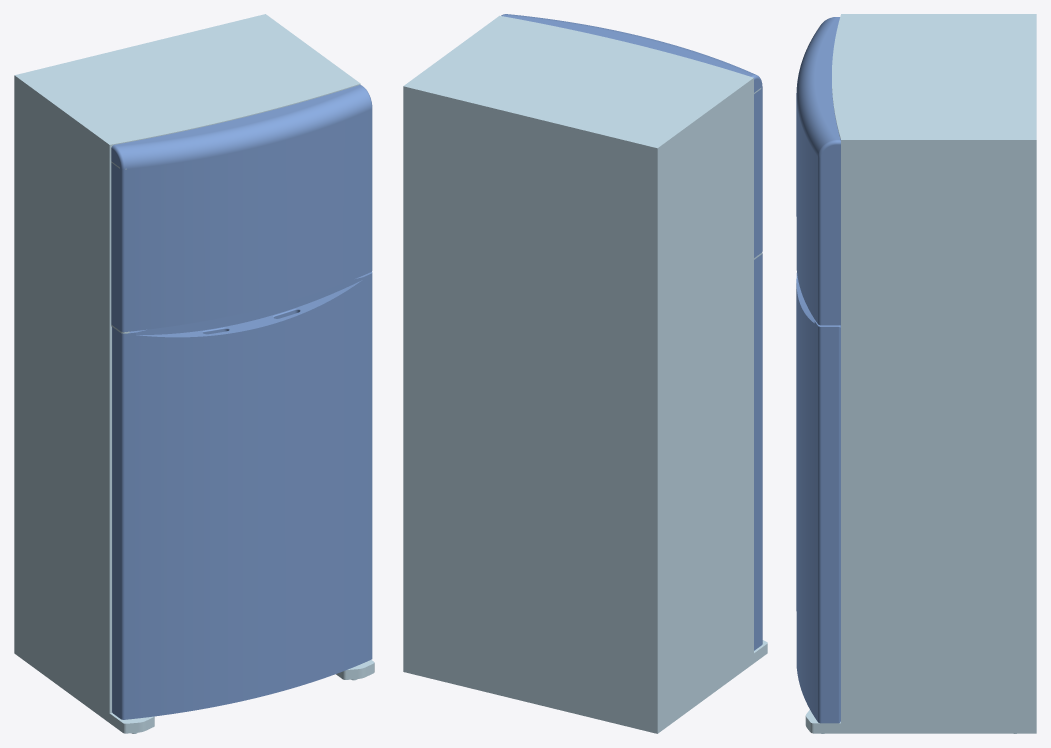
Rendered from fridge.glb.
The picture shows the model from 3 angles, left to right: view 1: azimuth 30°, elevation 25°; view 2: azimuth 150°, elevation 25°; view 3: azimuth 270°, elevation 25°; orthographic projection. The views are drawn at different scales.
Visible parts, largest first — view 1: door_fridge_panel, fridge_body, door_freezer; view 2: fridge_body, door_freezer, door_fridge_panel; view 3: fridge_body, door_fridge_panel, door_freezer.
Part boxes in pixels (x1,y1,x2,y2): door_fridge_panel: (112,272,372,719); fridge_body: (14,14,374,733); door_freezer: (111,85,372,332); fridge_body: (403,15,767,733); door_freezer: (501,14,762,257); door_fridge_panel: (754,253,762,650); fridge_body: (805,14,1036,733); door_fridge_panel: (796,273,840,723); door_freezer: (796,17,840,325).
Size of the model in its own units: 0.805 by 1.78 by 0.645.
